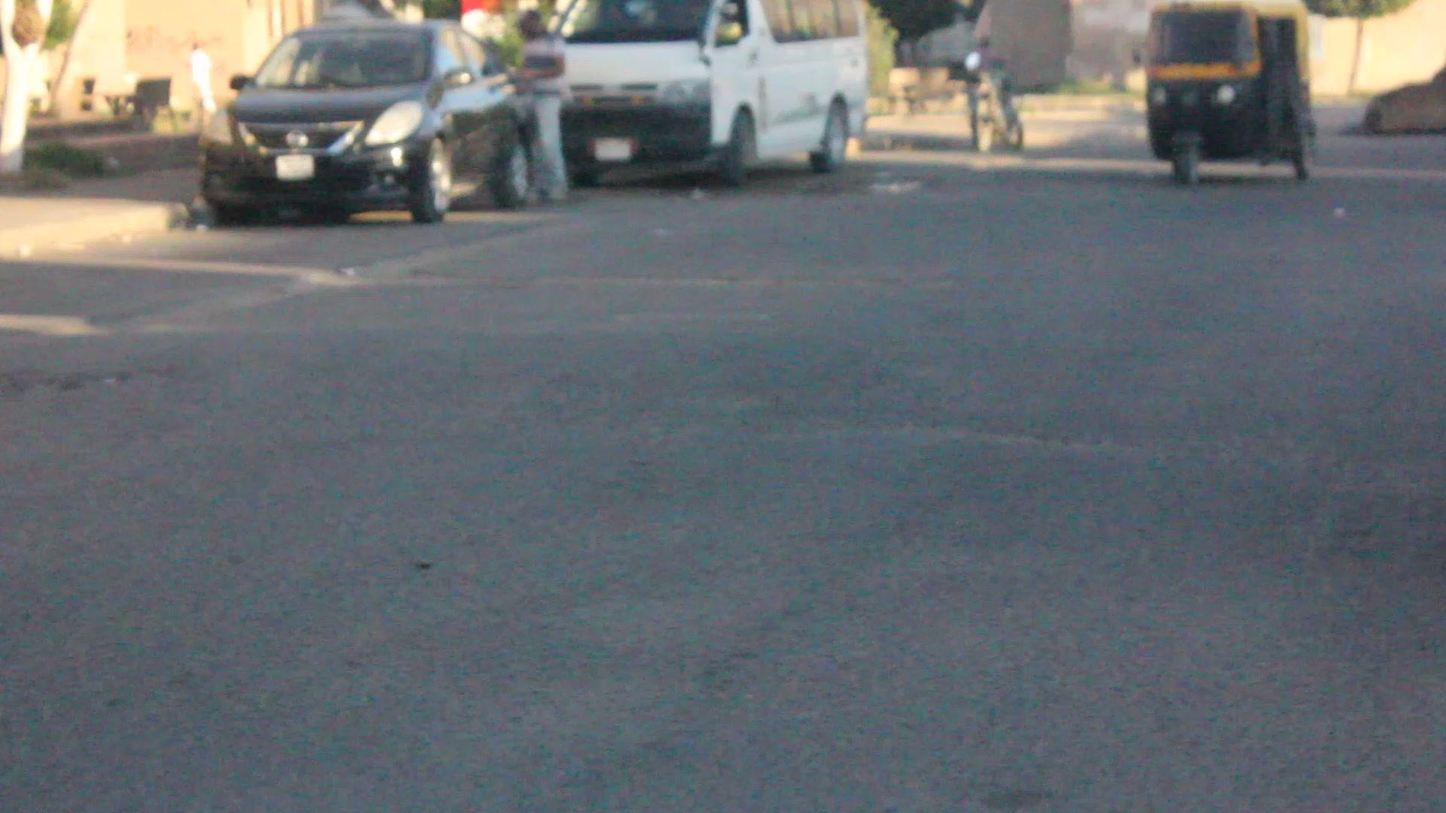Bump: (34, 423, 1446, 582)
